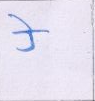e_matra: (9, 15, 35, 30)
